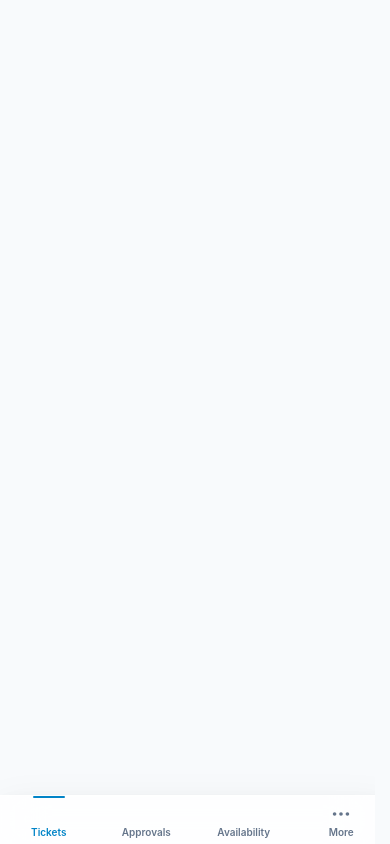
MobileTabBar › viewer: Tickets + Approvals + Availability tabs, More sheet without Settings
The image size is (390, 844).
Click the button "More" at (341, 820), box [292, 796, 389, 843]
(page scrolled)
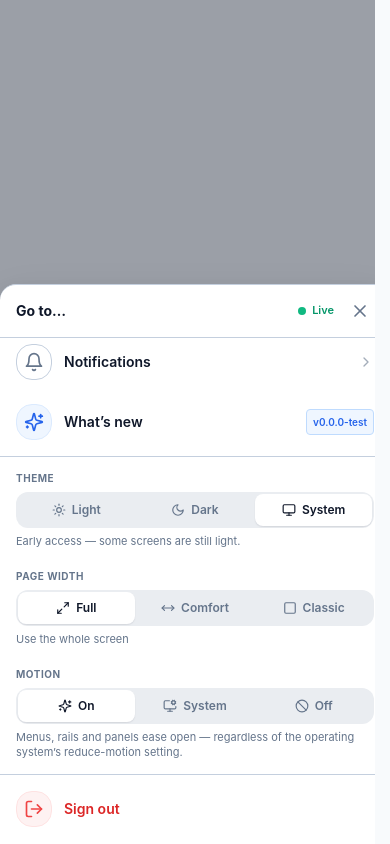
Now the text "Notifications" is shown, box [64, 353, 151, 370]
Now the text "Sign out" is shown, box [64, 800, 120, 817]
